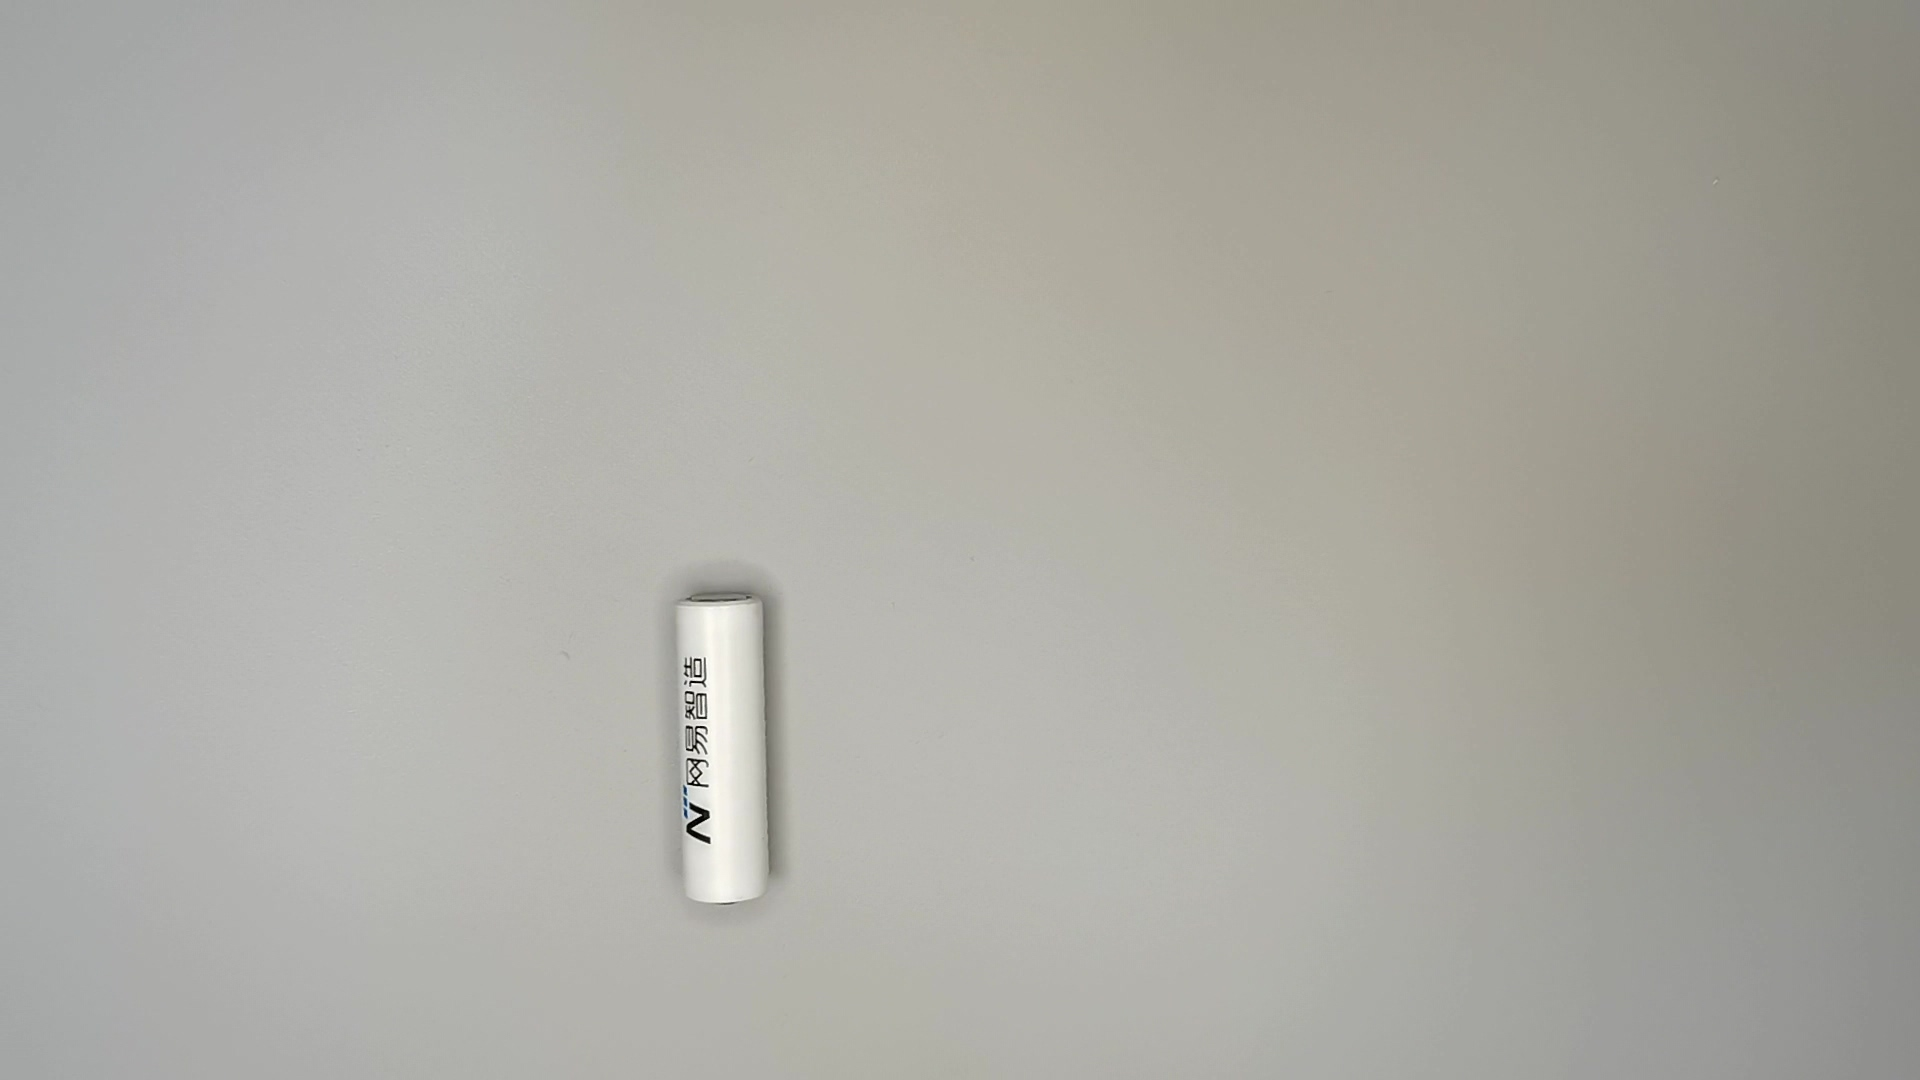battery: (671, 587, 785, 913)
